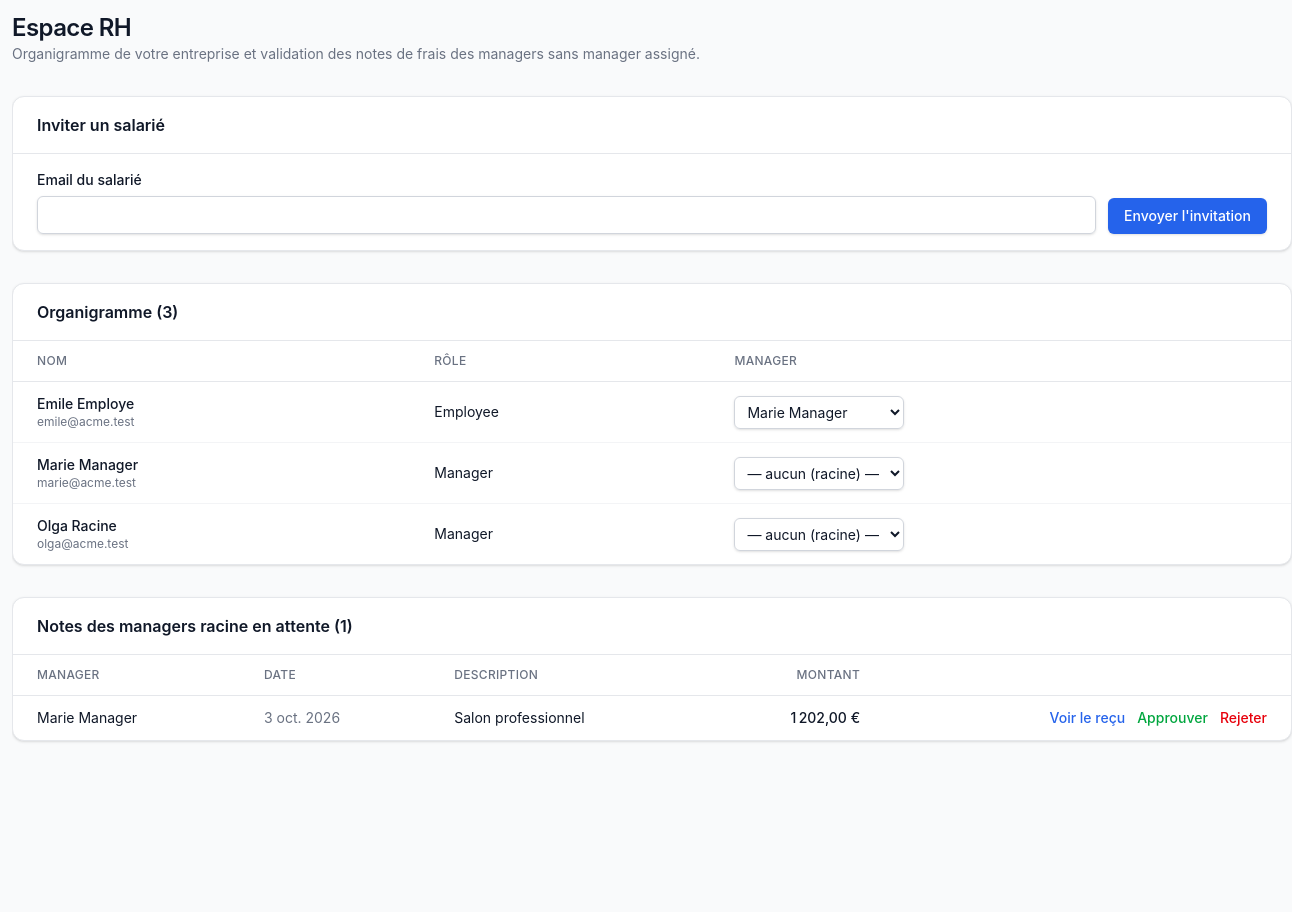
Test: AdminConsole › rattachement refusé : message traduit d’INVALID_MANAGER dans l’organigramme
The width and height of the screenshot is (1292, 912).
Select "Olga Racine" in the dropdown in the row of "Emile Employe" at (819, 412), box [734,396,904,428]
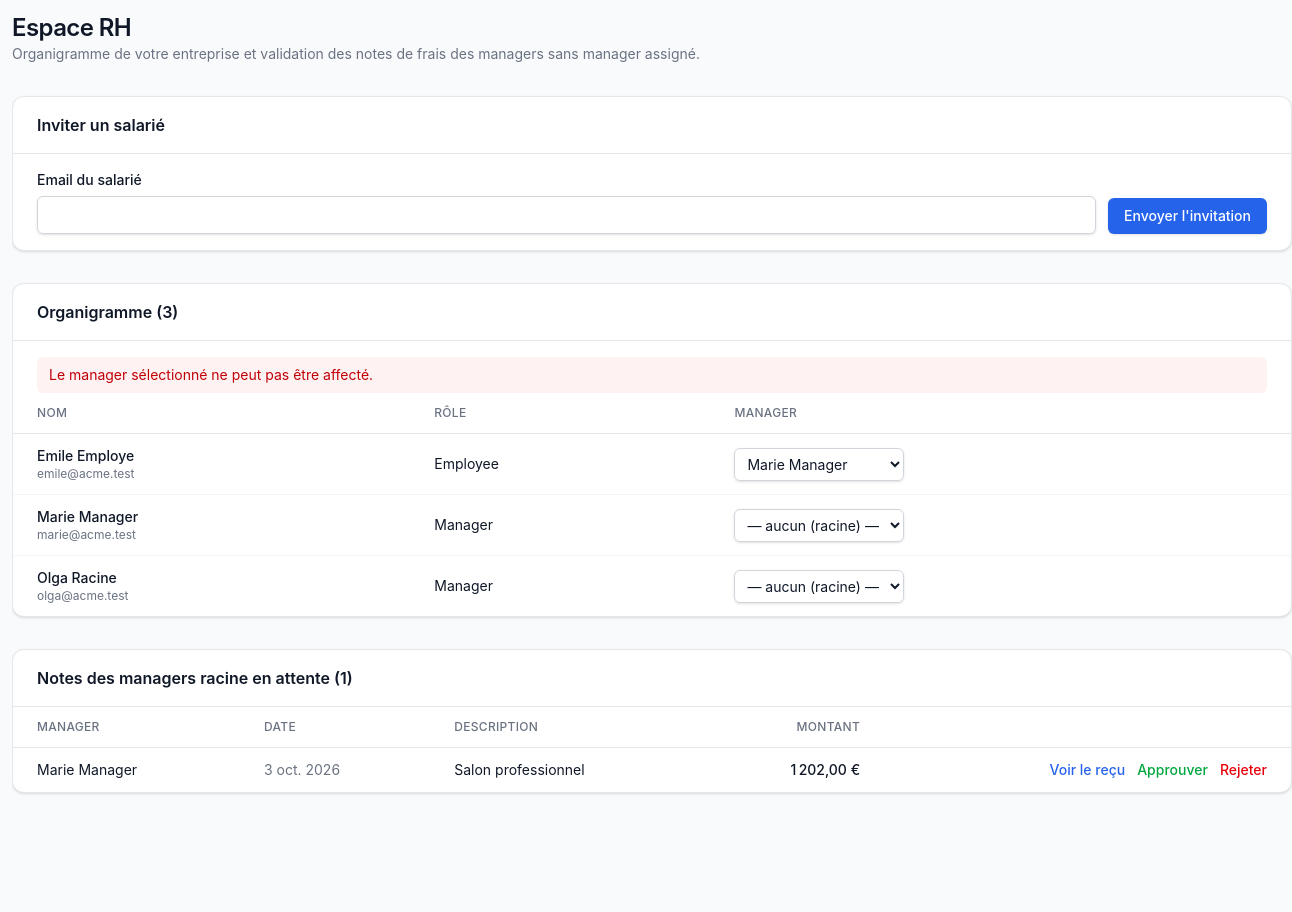
Expected: the message reads "Le manager sélectionné ne peut pas être affecté.", [49,366,373,383]
